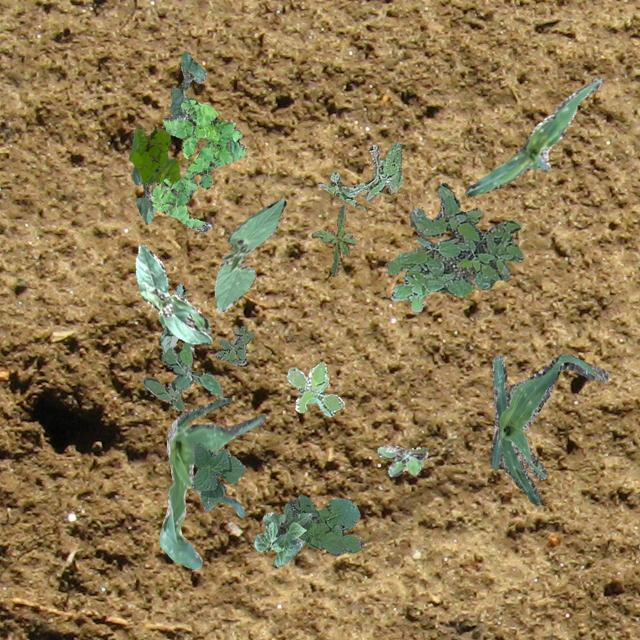crop: (158, 397, 264, 568), (488, 354, 608, 504), (464, 76, 602, 196), (213, 198, 284, 312), (134, 242, 210, 344), (190, 442, 244, 511), (253, 512, 310, 566), (170, 49, 206, 118), (159, 282, 185, 356), (130, 164, 154, 223)
weed: (388, 182, 522, 310), (148, 98, 245, 232), (140, 340, 222, 410), (316, 142, 402, 208), (282, 494, 362, 554), (286, 360, 344, 416), (128, 124, 182, 184), (310, 203, 354, 276), (377, 444, 428, 476), (215, 324, 252, 364)
